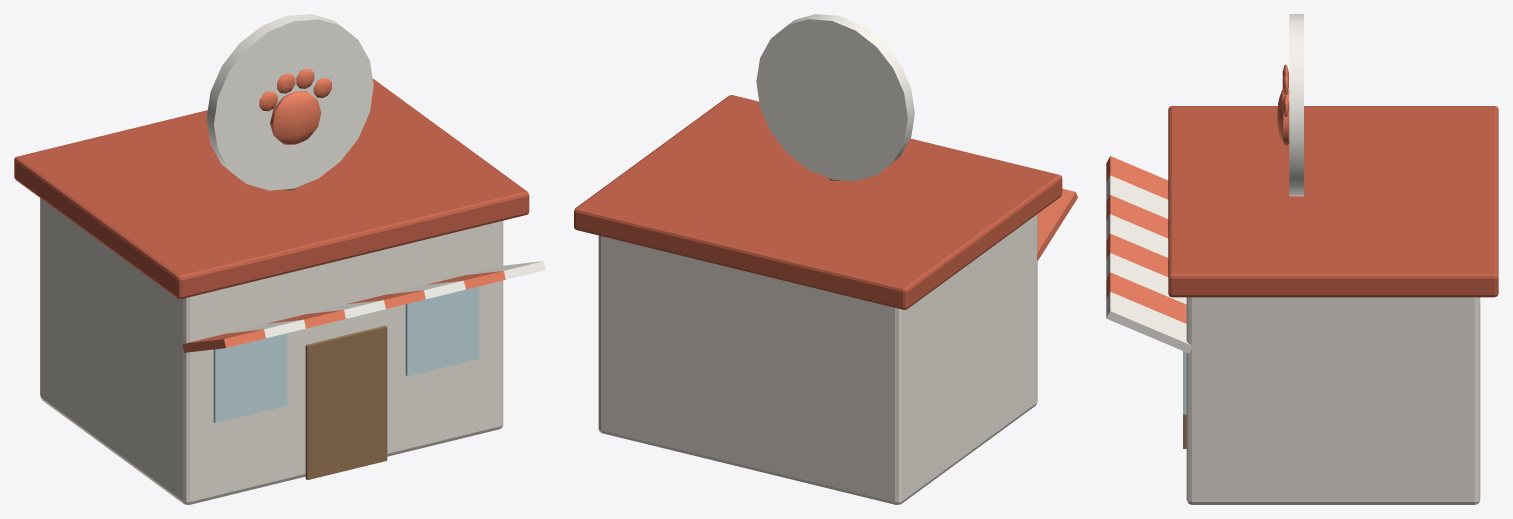
Rendered from m_towncafe.gltf.
3 views of the same model, side by side, from view 1: azimuth 30°, elevation 25°; view 2: azimuth 150°, elevation 25°; view 3: azimuth 270°, elevation 25° (orthographic). The views are drawn at different scales.
Visible parts, largest first — view 1: m_towncafe; view 2: m_towncafe; view 3: m_towncafe.
Part boxes in pixels (box(x1,y1,x2,y2)): m_towncafe: box(14, 14, 545, 504); m_towncafe: box(574, 14, 1077, 504); m_towncafe: box(1106, 14, 1498, 504).
Bounding box in the file's own units: 2.2 × 2.45 × 2.14.
Materials: 1 (1 with a texture image).
